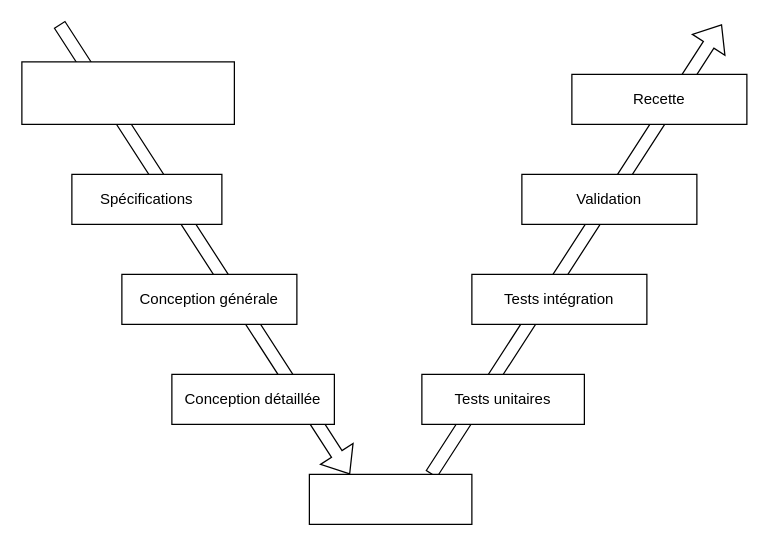
Image size: 769x548. Some labels were removed from this diagram. The centre of each missing label's shape, as x and y in pixels:
Analyse des besoins et étude de la faisabilité: pixel 127 92
Réalisation: pixel 390 498
